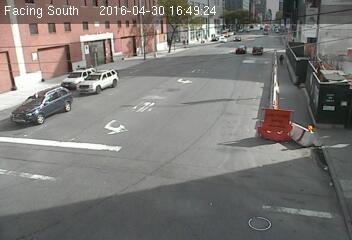neg: (260, 117, 290, 156), (106, 122, 132, 156), (143, 39, 168, 73), (241, 142, 265, 175), (156, 159, 180, 190), (48, 71, 70, 100), (64, 142, 83, 168), (190, 132, 209, 158), (239, 200, 257, 224), (83, 58, 101, 81), (242, 47, 258, 68), (309, 178, 325, 199), (224, 34, 238, 53), (173, 47, 186, 65)
pos: (274, 50, 291, 72)
